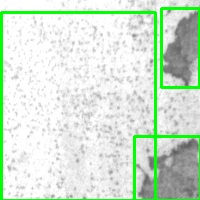patches: (134, 136, 200, 200), (161, 8, 199, 87)
pitted_surface: (1, 12, 155, 200)
